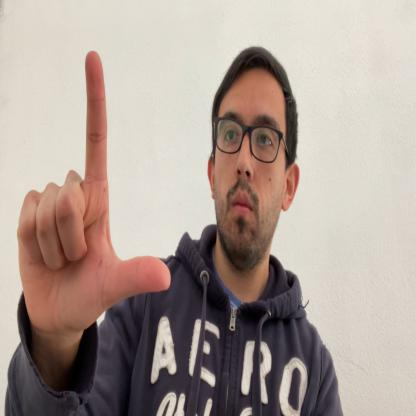L: (17, 47, 170, 334)
